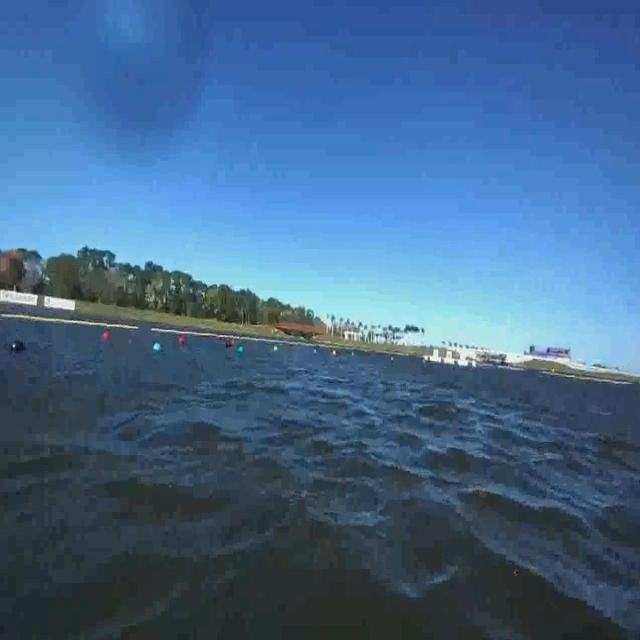black-buoy: (11, 341, 26, 353)
green-buoy: (153, 340, 162, 354)
red-buoy: (104, 330, 110, 340)
